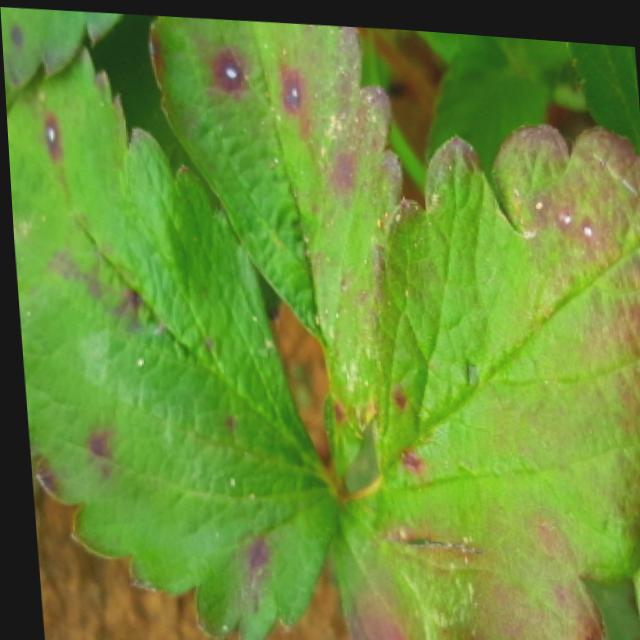Leaf Spot: (5, 37, 333, 640), (323, 112, 640, 640), (150, 12, 409, 481), (0, 6, 121, 91)
